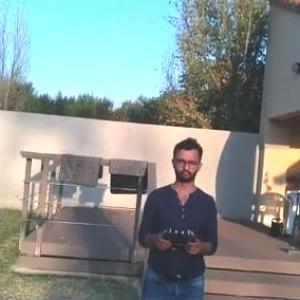follow: (133, 130, 222, 299)
